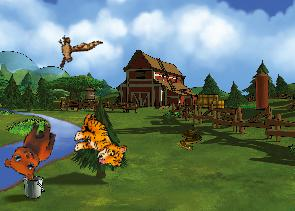bear: (1, 115, 59, 183)
eagle: (45, 19, 103, 78)
tiger: (68, 111, 133, 170)
